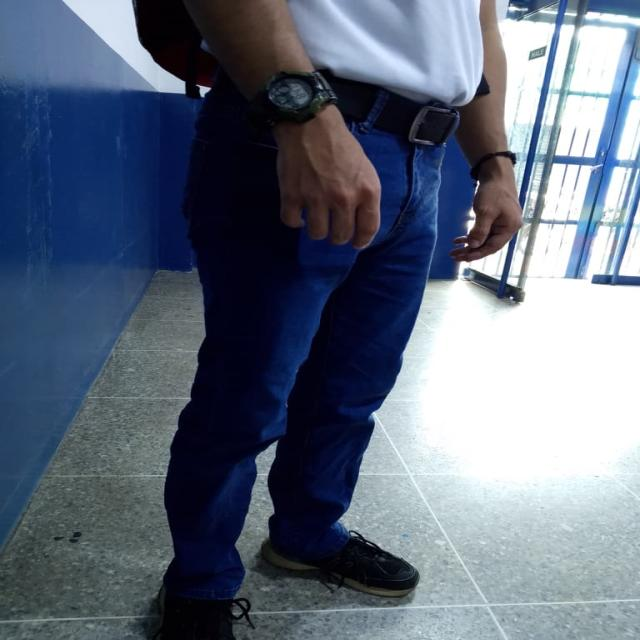pantalon_oscuro: (165, 87, 442, 599)
